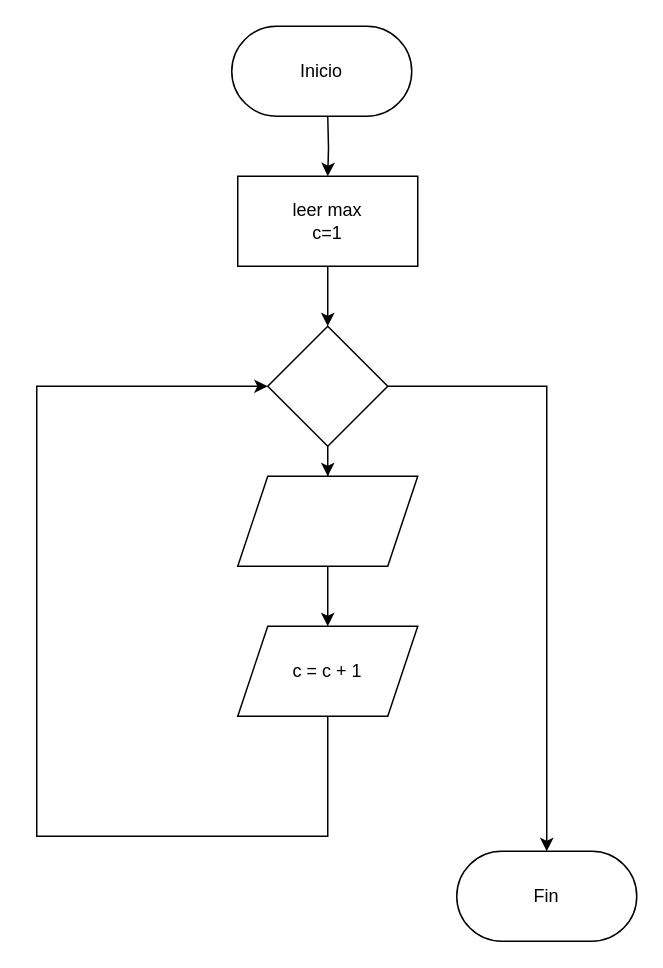
Some shapes in this 663 by 968 pixel diagram are drawn without their labels. Each missing label, with the centre of its shape:
"c<= max" belongs at (327,385).
"Escribe c" belongs at (327,520).
